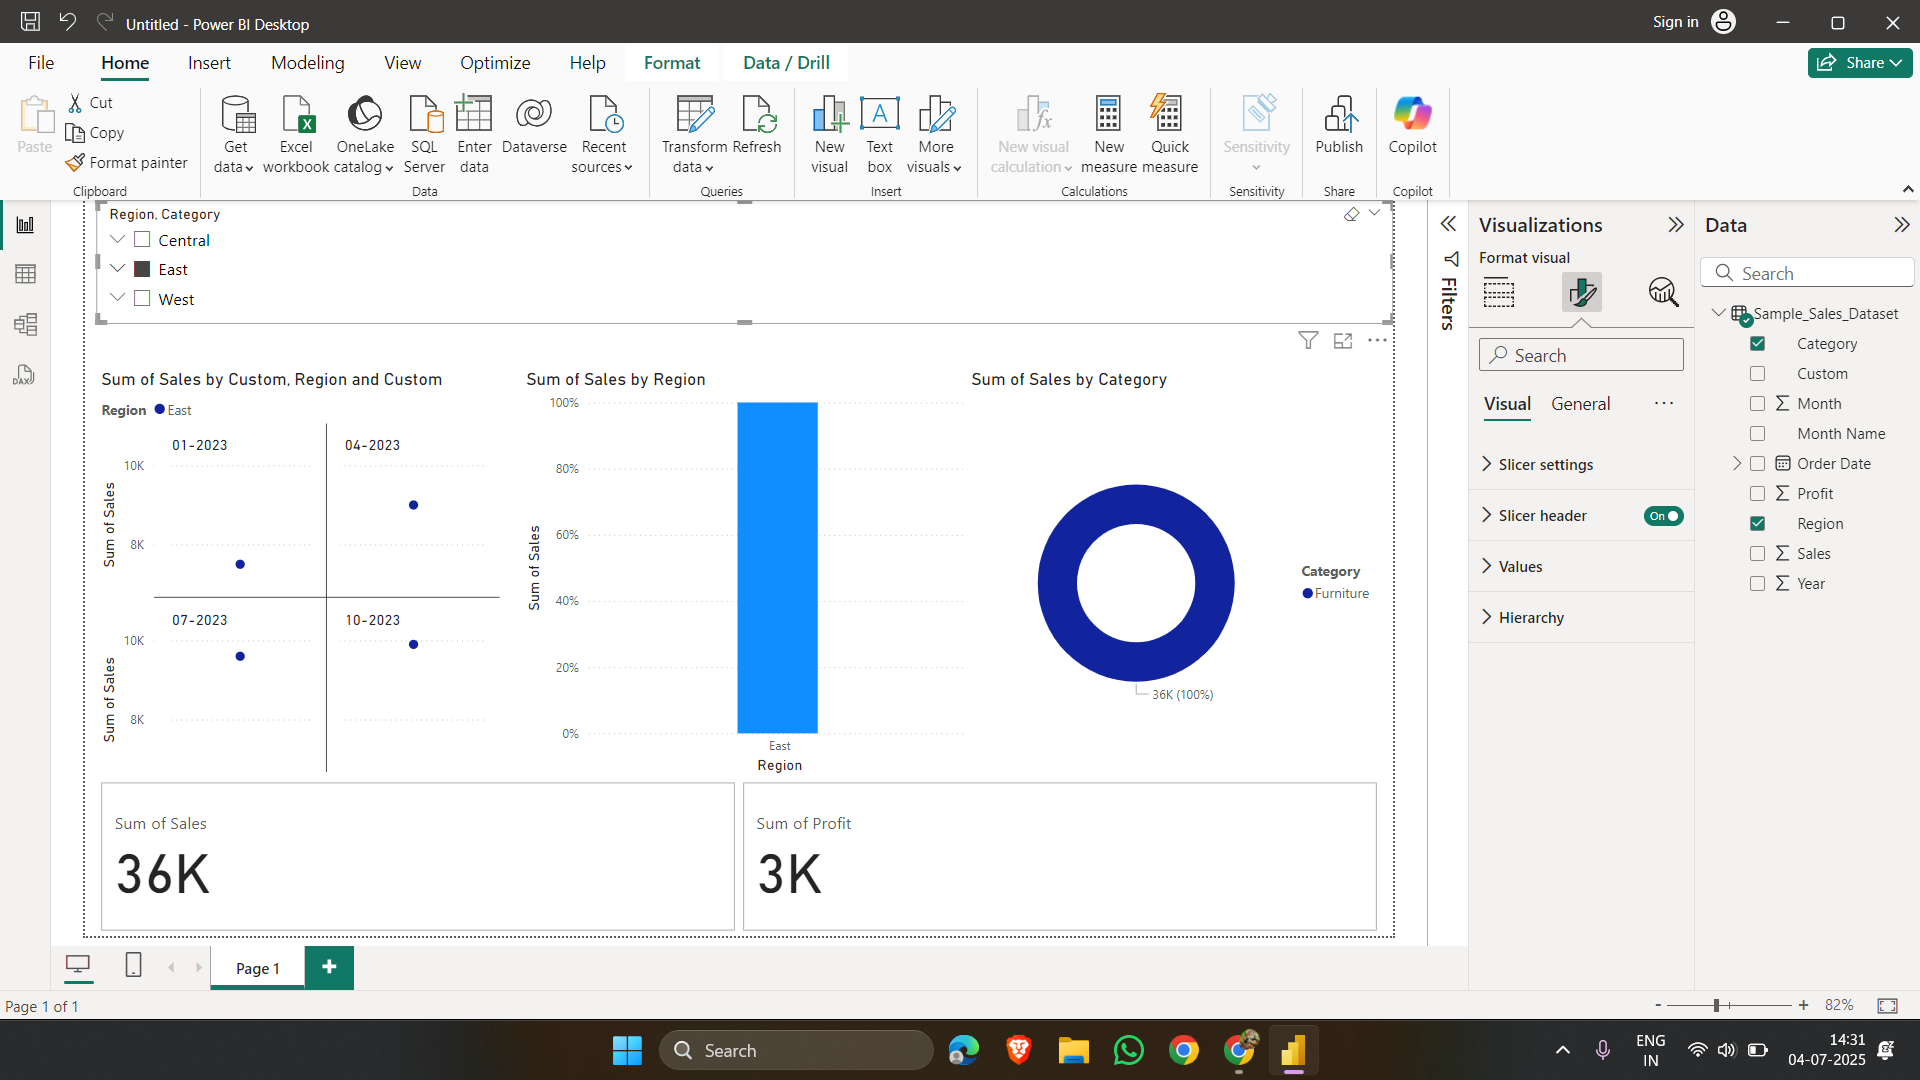

This screenshot's page, from the dashboard's own definition file:
{"tool":"powerbi","page":{"name":"Sales Dashboard Design","canvas":[1280,720],"ordinal":0},"visuals":[{"type":"lineChart","fields":{"Y":["Sum(Sample_Sales_Dataset.Sales)"],"Category":["Sample_Sales_Dataset.Custom"],"Series":["Sample_Sales_Dataset.Region"],"Rows":["Sample_Sales_Dataset.Custom"]},"box":[11,164.7,400.7,400.7],"z":0},{"type":"hundredPercentStackedColumnChart","fields":{"Category":["Sample_Sales_Dataset.Region"],"Y":["Sum(Sample_Sales_Dataset.Sales)"]},"box":[426.8,164.7,444.6,400.7],"z":3},{"type":"donutChart","fields":{"Y":["Sum(Sample_Sales_Dataset.Sales)"],"Category":["Sample_Sales_Dataset.Category"]},"box":[861.8,164.7,408.9,400.7],"z":4},{"type":"cardVisual","fields":{"Data":["Sum(Sample_Sales_Dataset.Sales)","Sum(Sample_Sales_Dataset.Profit)"]},"box":[11,565.4,1259.7,155.1],"z":5},{"type":"slicer","fields":{"Values":["Sample_Sales_Dataset.Region"]},"box":[11,0,1269.3,120.8],"z":6}]}

Visuals, with their boxes on the page's 1280x720 design canvas (x1, y1, x2, y2). These are canvas units, not pixel positions in the 1920x1080 screenshot, which may show the page scaled, cropped or inside an application window:
lineChart - Sum(Sample_Sales_Dataset.Sales) x Sample_Sales_Dataset.Custom: select_region(11, 165, 412, 565)
hundredPercentStackedColumnChart - Sample_Sales_Dataset.Region x Sum(Sample_Sales_Dataset.Sales): select_region(427, 165, 871, 565)
donutChart - Sum(Sample_Sales_Dataset.Sales) x Sample_Sales_Dataset.Category: select_region(862, 165, 1271, 565)
cardVisual - Sum(Sample_Sales_Dataset.Sales) x Sum(Sample_Sales_Dataset.Profit): select_region(11, 565, 1271, 720)
slicer - Sample_Sales_Dataset.Region: select_region(11, 0, 1280, 121)
